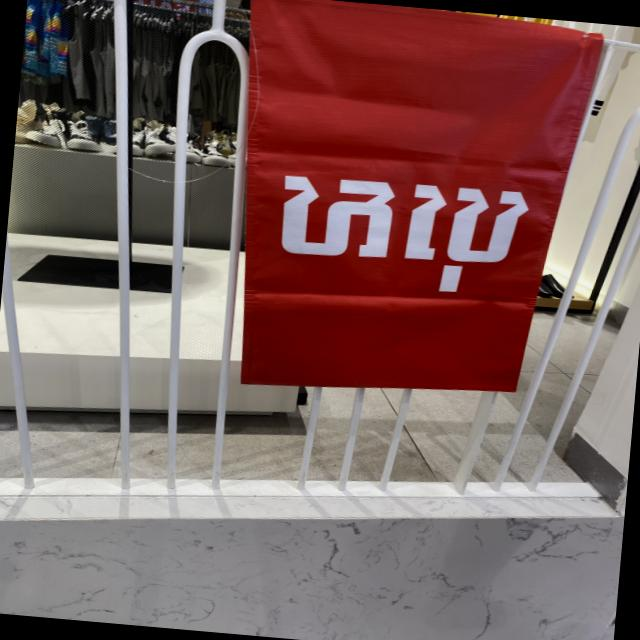Yolov11_80vkh: (278, 161, 535, 296)
